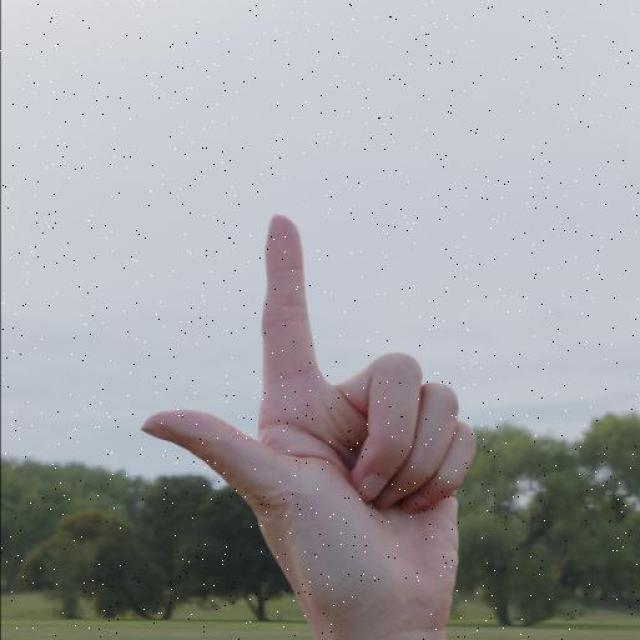L: (135, 209, 481, 640)
